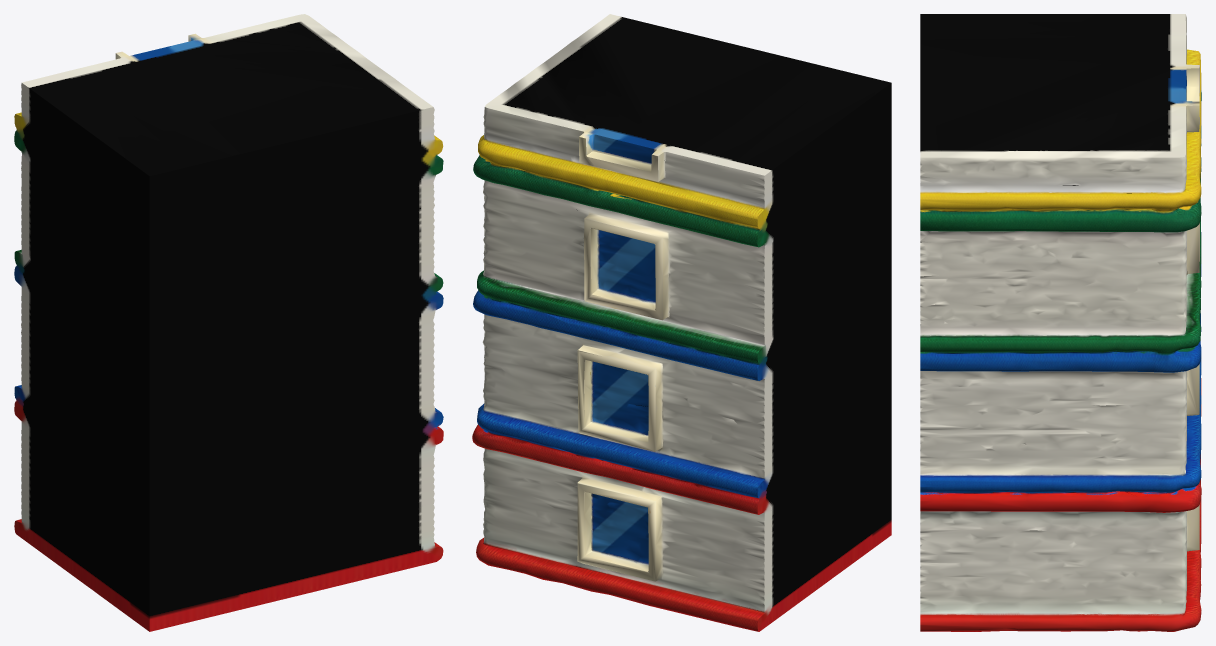
Rendered from 4-ground-floor-back-right.fbx.
3 renders of one model, left to right at view 1: azimuth 30°, elevation 25°; view 2: azimuth 150°, elevation 25°; view 3: azimuth 270°, elevation 25°, orthographic. The views are drawn at different scales.
Visible parts, largest first — view 1: ground-floor-back-right; view 2: ground-floor-back-right; view 3: ground-floor-back-right.
Part boxes in pixels (x1,y1,x2,y2): ground-floor-back-right: (14,14,443,631); ground-floor-back-right: (472,14,891,631); ground-floor-back-right: (920,14,1201,631).
Size of the model in its own units: 5055 by 7448 by 4017.
1 material, 1 textured.
